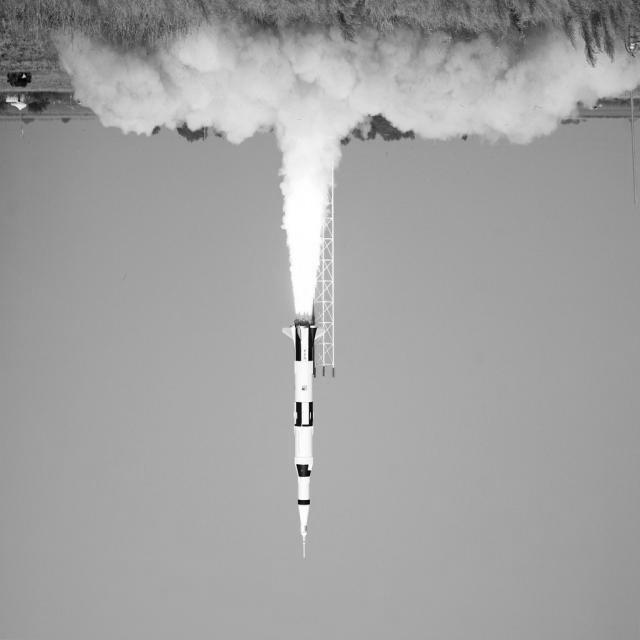missile: (281, 325, 323, 559)
